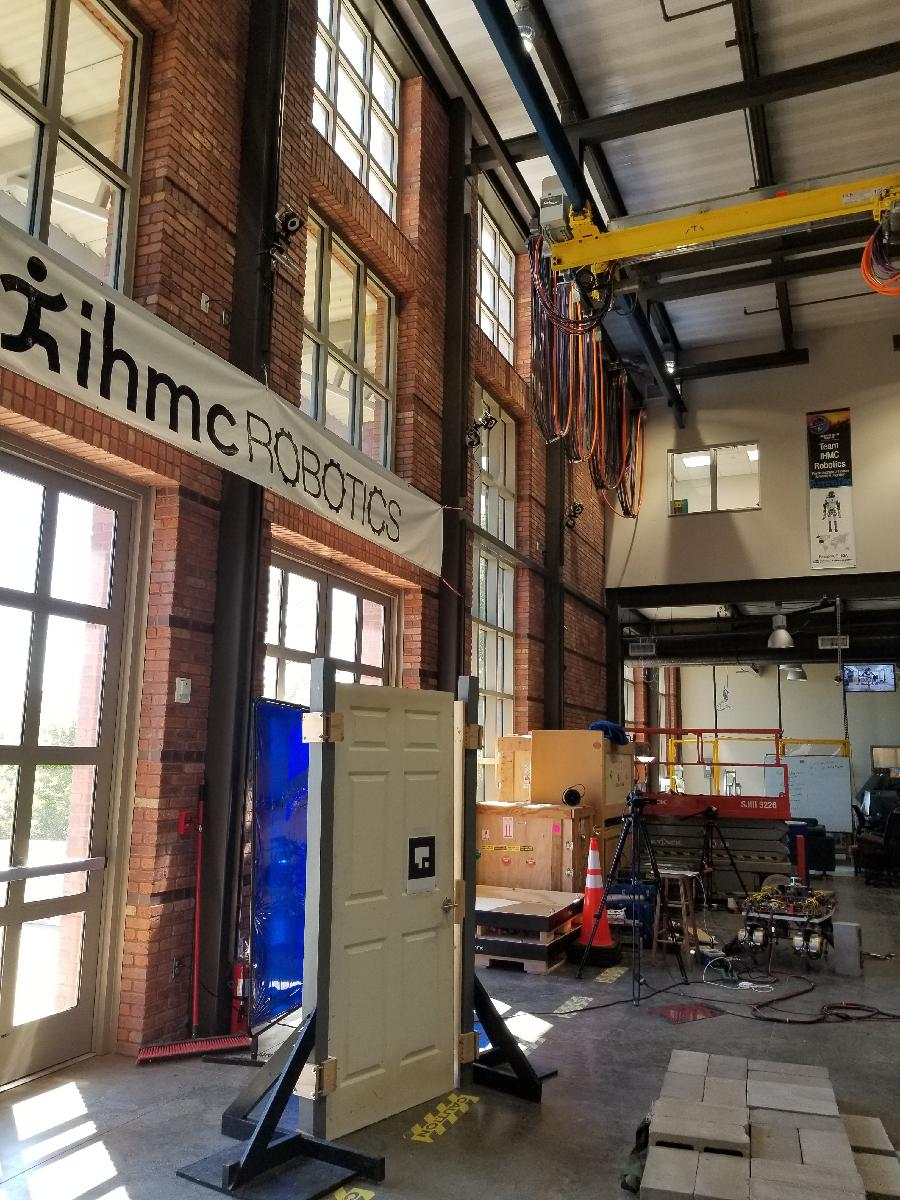door: (324, 677, 464, 1144)
doorHandle: (438, 896, 456, 916)
